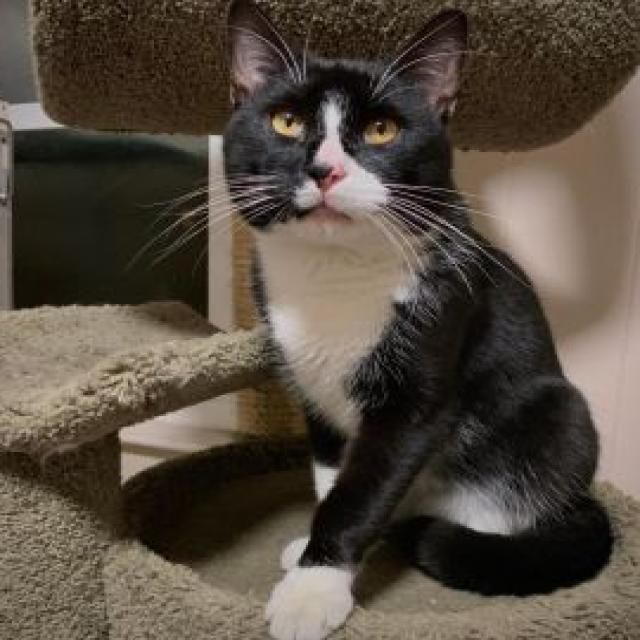Tuxedo: (216, 0, 614, 640)
